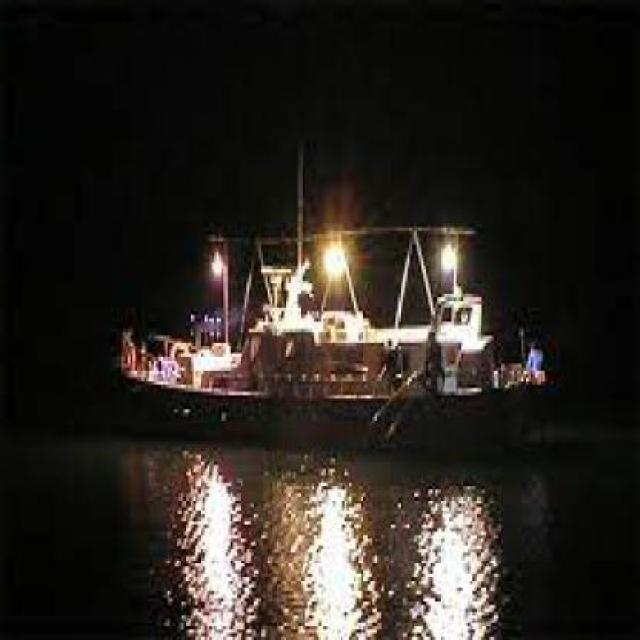fish-b: (106, 130, 558, 463)
